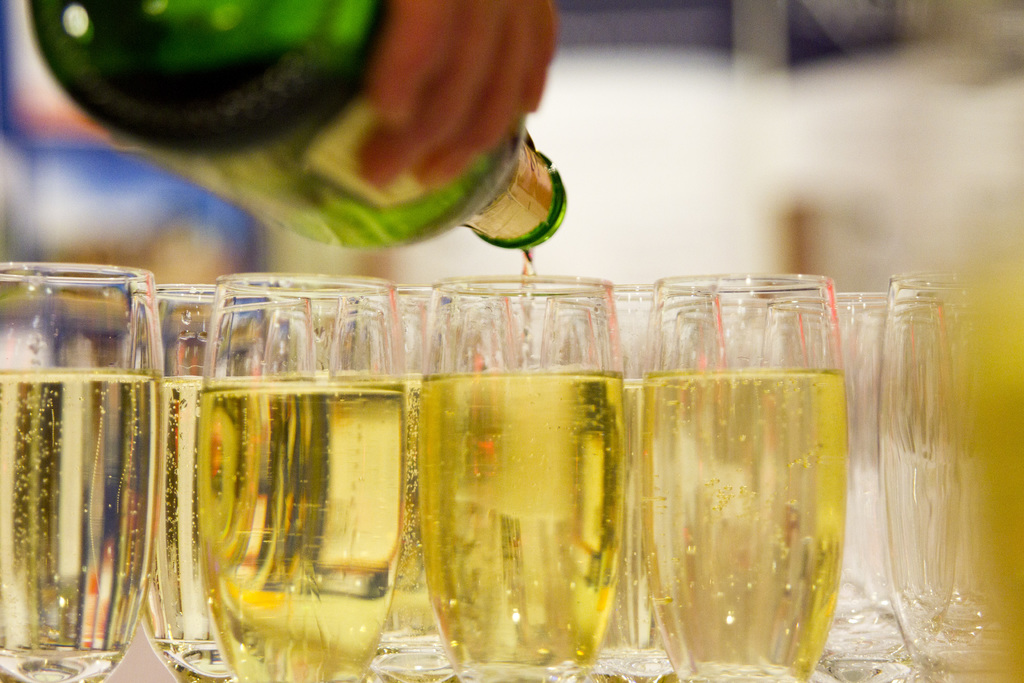Beer: (0, 365, 852, 682)
